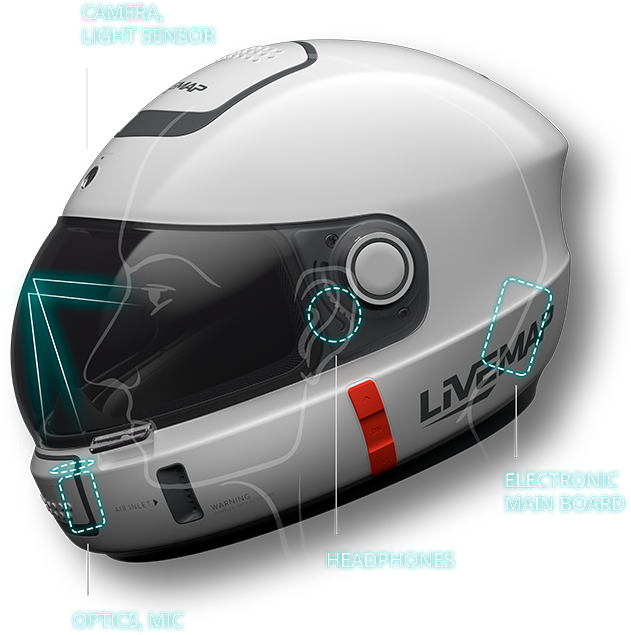with_helmet: (7, 29, 570, 573)
